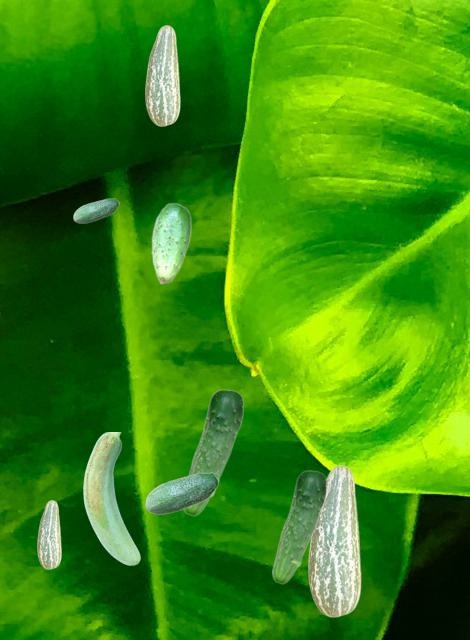cucumber: (308, 465, 360, 616), (183, 389, 243, 515), (83, 432, 139, 564), (271, 470, 326, 583), (145, 25, 179, 125), (151, 202, 190, 283), (145, 472, 218, 513), (37, 500, 60, 568), (73, 198, 118, 222)
